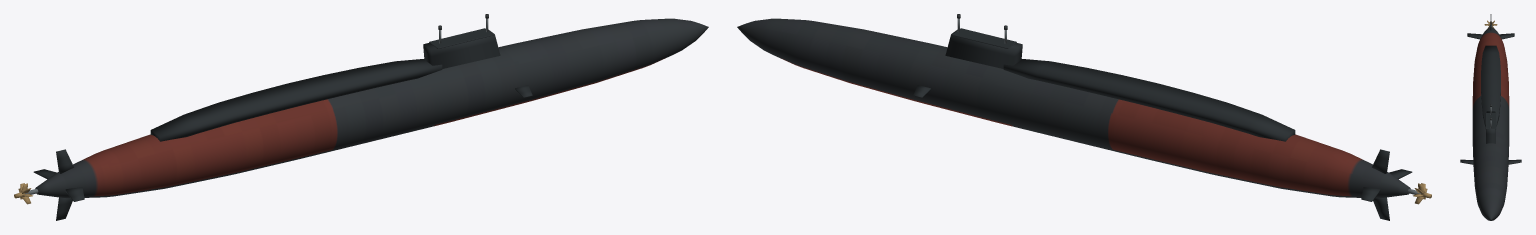
Rendered from RU_SSBN_Hotel.glb.
3 views of the same model, side by side, from view 1: azimuth 30°, elevation 25°; view 2: azimuth 150°, elevation 25°; view 3: azimuth 270°, elevation 25° (orthographic). The views are drawn at different scales.
Parts seen in each view (by area): view 1: RU_SSBN_Hotel_LOD0; view 2: RU_SSBN_Hotel_LOD0; view 3: RU_SSBN_Hotel_LOD0.
Part boxes in pixels (x1,y1,x2,y2): RU_SSBN_Hotel_LOD0: (14, 14, 708, 220); RU_SSBN_Hotel_LOD0: (737, 14, 1431, 220); RU_SSBN_Hotel_LOD0: (1460, 14, 1521, 220).
Bounding box in the file's own units: 118 × 16.35 × 15.38.
Materials: 6 (1 with a texture image).
